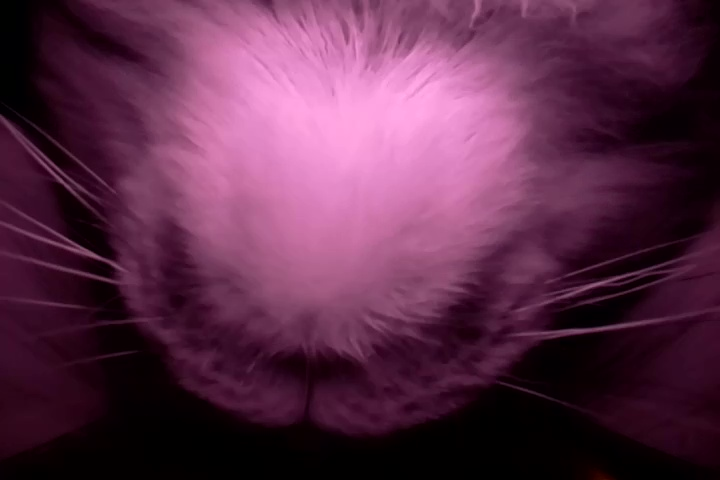Snout: (111, 207, 559, 434)
